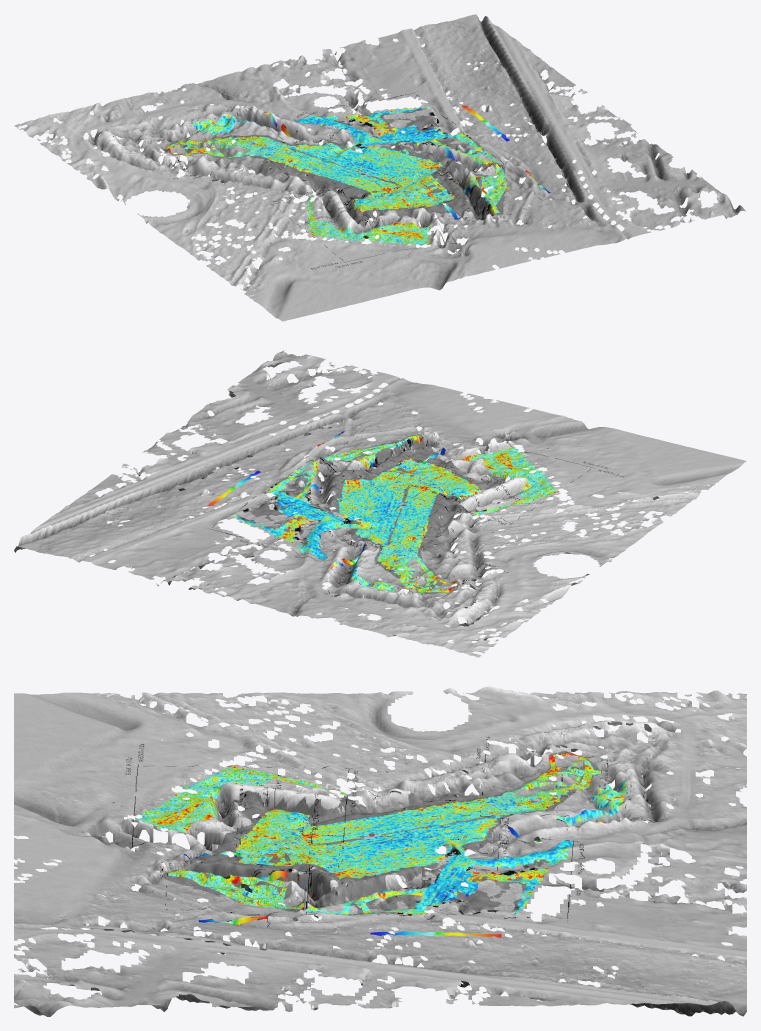
File: USGS_LPC_RI_Statewide_D22_395000_192500.gltf
3 renders of one model, top to bottom at view 1: azimuth 30°, elevation 25°; view 2: azimuth 150°, elevation 25°; view 3: azimuth 270°, elevation 25°, orthographic. The views are drawn at different scales.
Parts seen in each view (by area): view 1: BH_Ground_Hillshade; view 2: BH_Ground_Hillshade; view 3: BH_Ground_Hillshade.
Boxes of the visible parts, x1,y1,x2,y2 form: BH_Ground_Hillshade: (14, 14, 745, 321); BH_Ground_Hillshade: (14, 350, 746, 657); BH_Ground_Hillshade: (14, 686, 746, 1016).
Size of the model in its own units: 865 by 42.2 by 865.
Materials: 1 (1 with a texture image).
